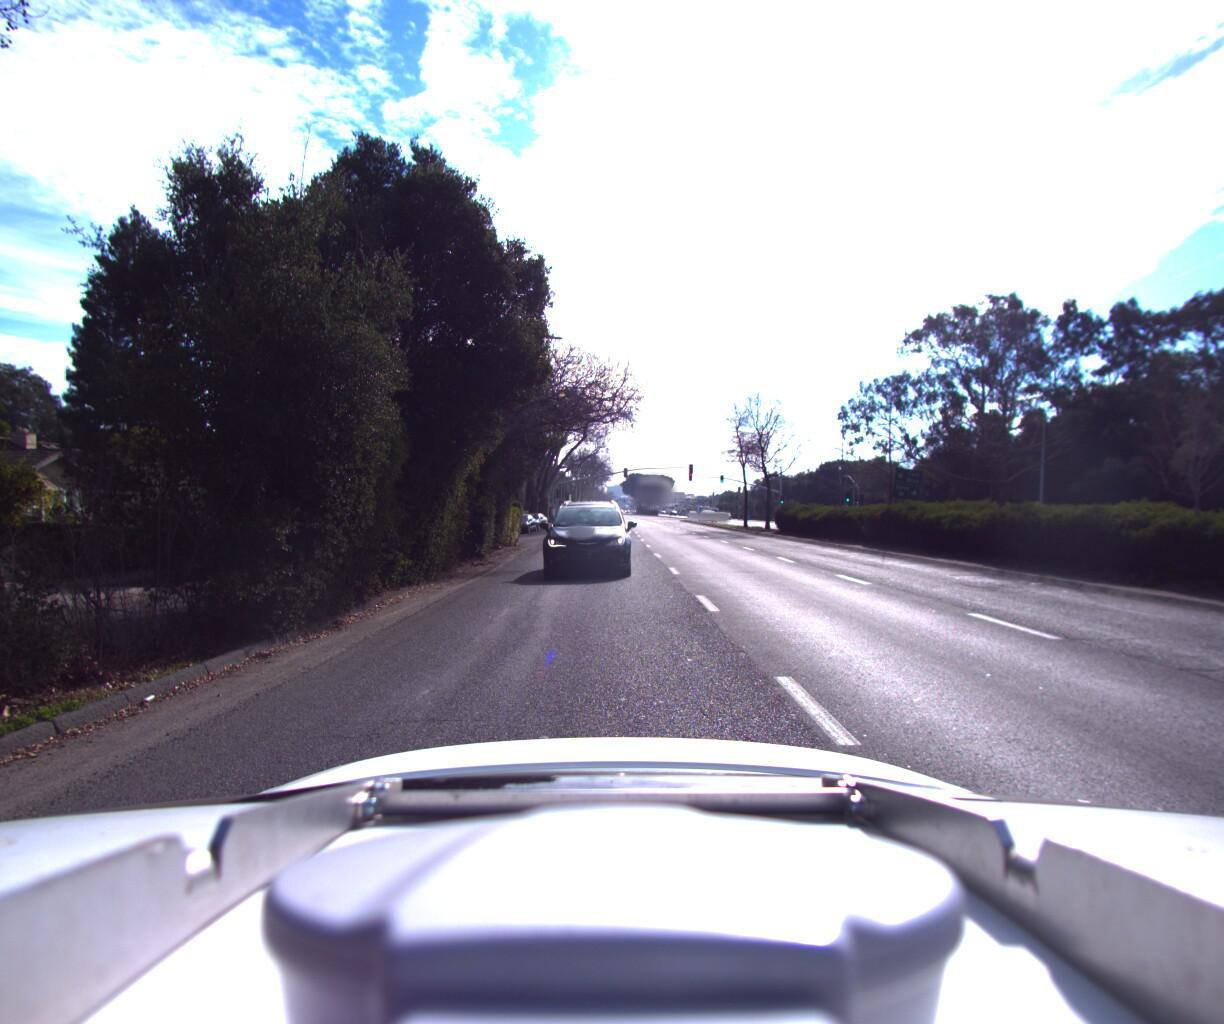car: (538, 495, 632, 579), (0, 539, 35, 704)
